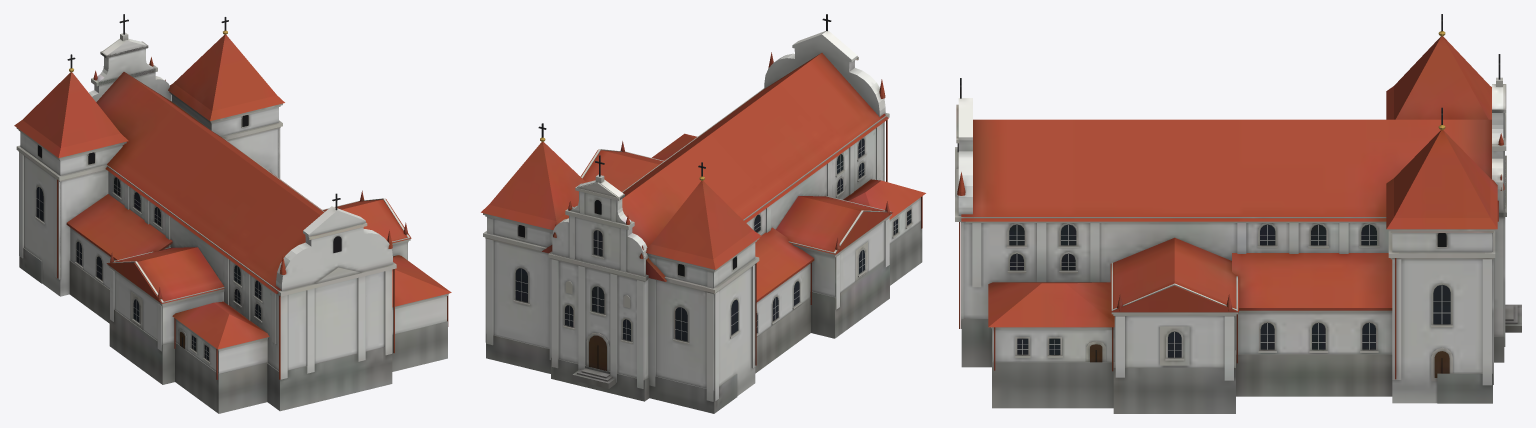
The model's file is church.glb.
3 views of the same model, side by side, from view 1: azimuth 30°, elevation 25°; view 2: azimuth 150°, elevation 25°; view 3: azimuth 270°, elevation 25° (orthographic). The views are drawn at different scales.
Visible parts, largest first — view 1: building; view 2: building; view 3: building.
Part boxes in pixels (x1=…): building: x1=14, y1=14, x2=451, y2=413; building: x1=481, y1=14, x2=925, y2=413; building: x1=955, y1=14, x2=1521, y2=413.
Size of the model in its own units: 32.09 by 27 by 49.39.
Materials: 2 (2 with a texture image).
